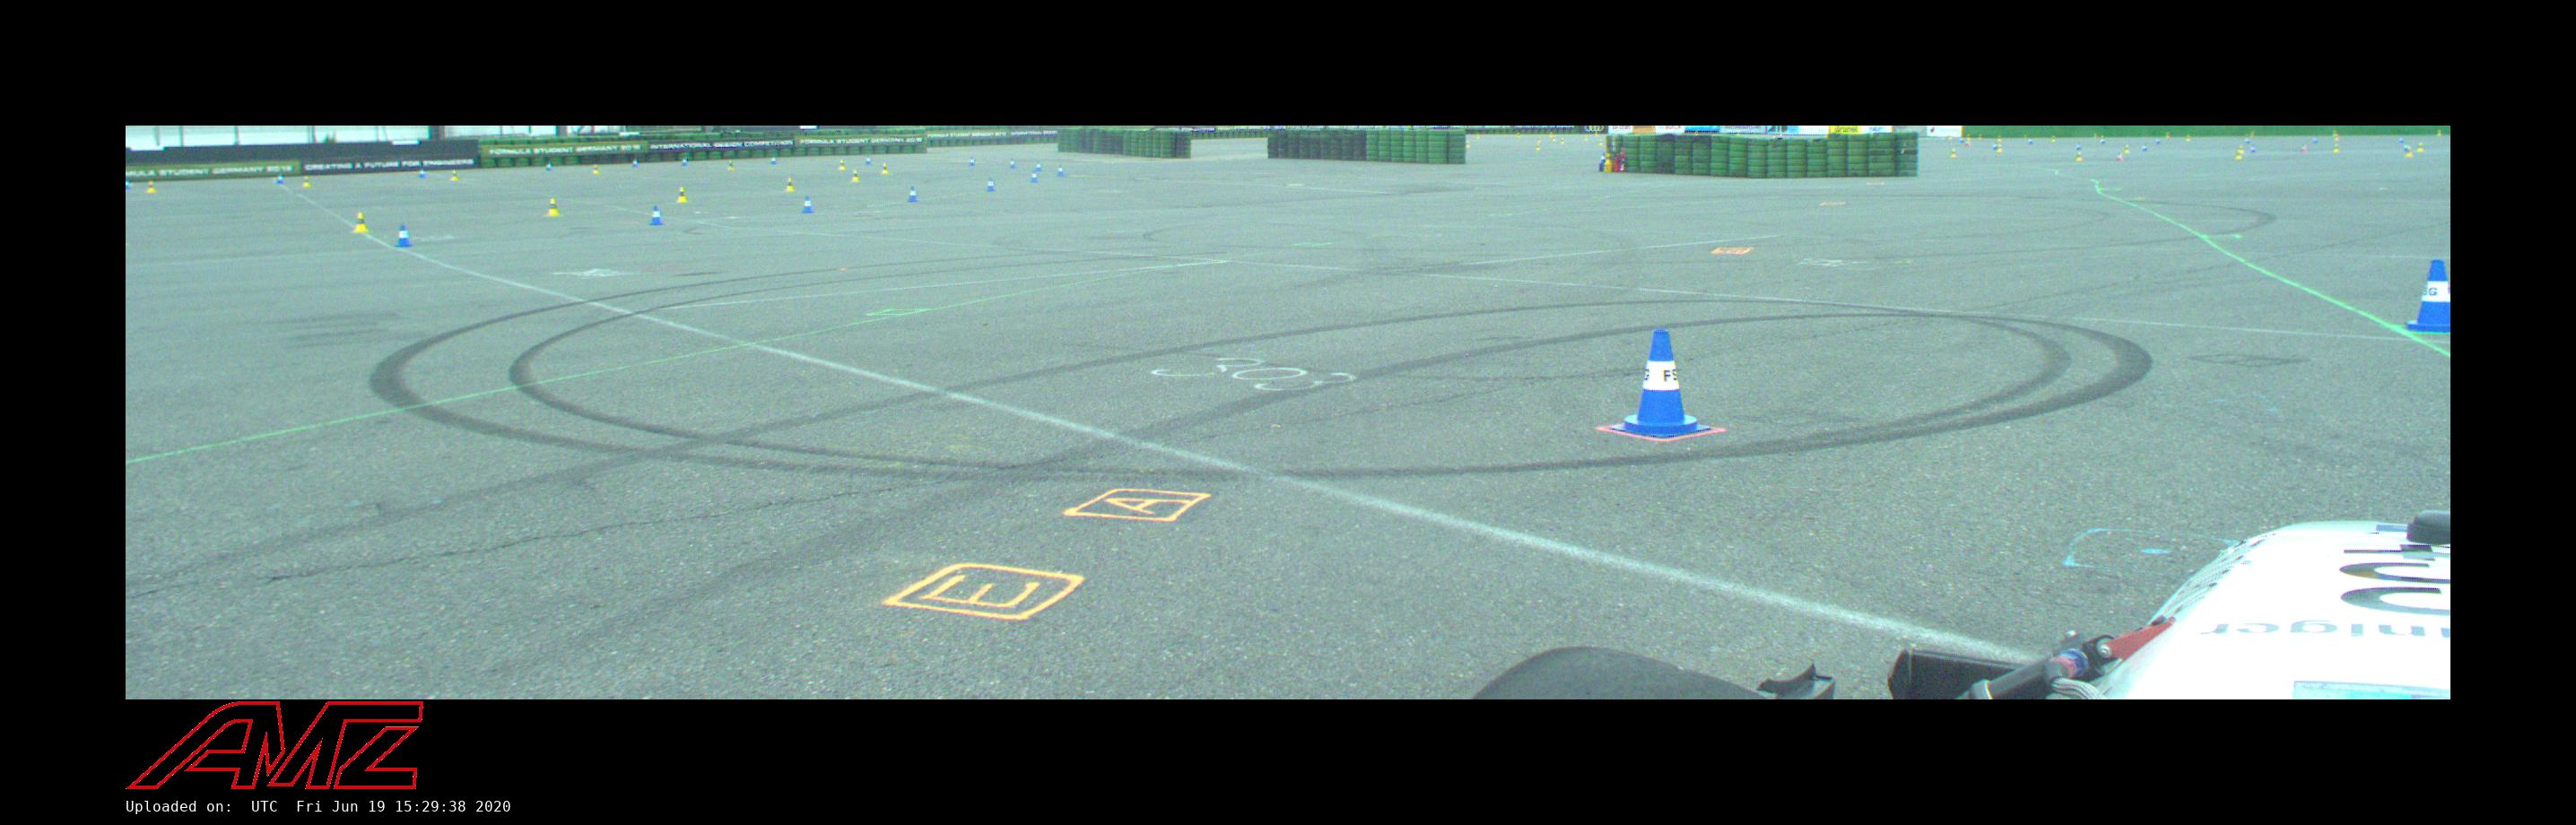blue_cone: (1614, 333, 1710, 434), (2406, 260, 2450, 331), (396, 226, 412, 246), (649, 206, 662, 225), (802, 196, 814, 213), (909, 187, 918, 202), (987, 178, 994, 191), (1031, 172, 1038, 182), (276, 175, 283, 184), (770, 156, 777, 165), (1057, 166, 1063, 176), (545, 163, 553, 171), (1036, 162, 1042, 171), (632, 159, 639, 167), (126, 179, 130, 189), (866, 156, 871, 164), (420, 169, 425, 178), (683, 157, 687, 166), (1010, 160, 1014, 168), (970, 158, 974, 165), (2143, 144, 2147, 152), (2251, 145, 2256, 152), (2076, 143, 2081, 150), (2313, 137, 2318, 143), (1993, 143, 1997, 149), (2029, 139, 2032, 144), (2246, 138, 2250, 143), (2102, 139, 2105, 144), (2156, 139, 2160, 143), (2399, 138, 2403, 143)
orange_cone: (2117, 152, 2122, 161), (1965, 141, 1969, 145)
yellow_cone: (353, 213, 368, 231), (547, 199, 559, 215), (678, 187, 687, 202), (785, 178, 794, 191), (146, 181, 156, 192), (852, 170, 859, 182), (450, 170, 458, 180), (302, 176, 309, 187), (882, 163, 889, 174), (2406, 147, 2413, 157), (593, 165, 600, 173), (727, 161, 735, 169), (2235, 152, 2241, 160), (2418, 143, 2424, 152), (840, 161, 845, 169), (1951, 149, 1956, 157), (2124, 145, 2129, 153), (2334, 144, 2339, 152), (2076, 152, 2081, 161), (2240, 145, 2244, 153), (1466, 141, 1470, 148), (1997, 144, 2002, 152), (2186, 135, 2190, 141), (1583, 135, 1588, 142), (2438, 130, 2442, 135), (2333, 130, 2337, 136), (2336, 135, 2339, 141), (2051, 135, 2055, 142), (1561, 138, 1564, 143), (1536, 144, 1539, 150), (2251, 132, 2255, 137), (2167, 132, 2170, 138), (1979, 135, 1982, 139)
